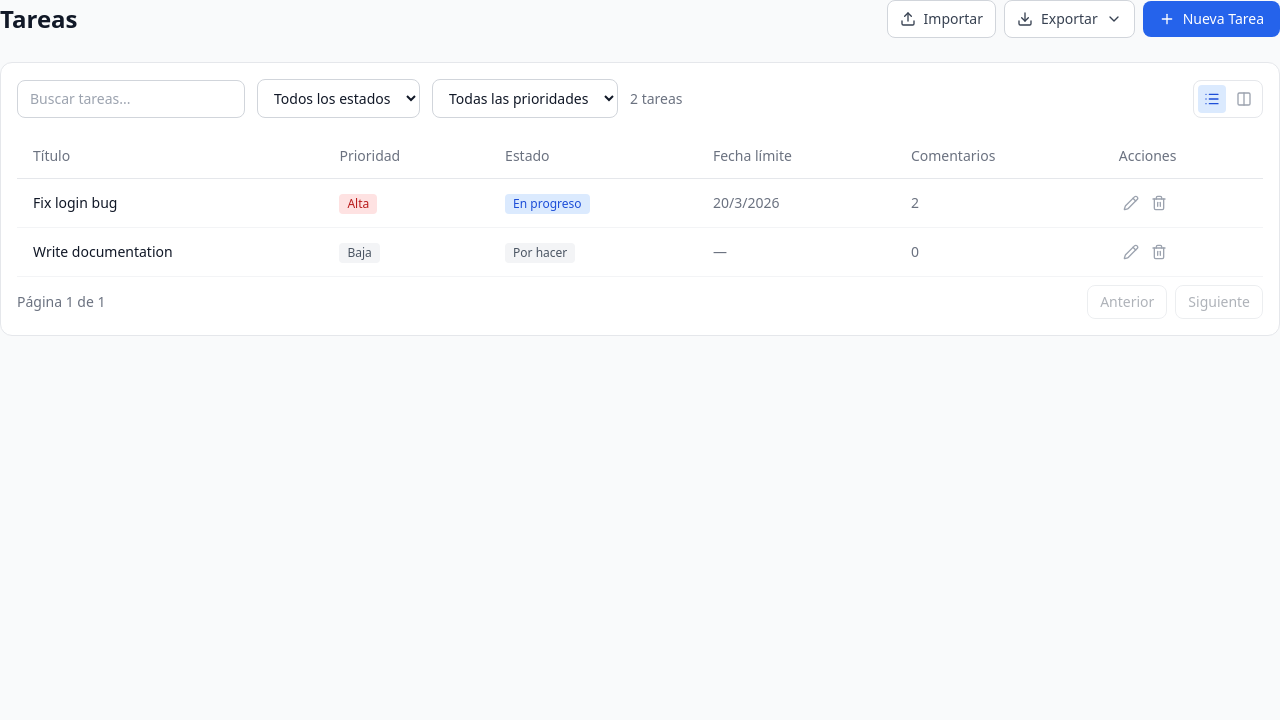
Test case: TasksPage › abre modal de edición al hacer click en editar
This screenshot has width=1280, height=720.
Step 1. Click the button named "Editar tarea" in the row of "Fix login bug" → (1131, 203), box [1119, 191, 1143, 215]
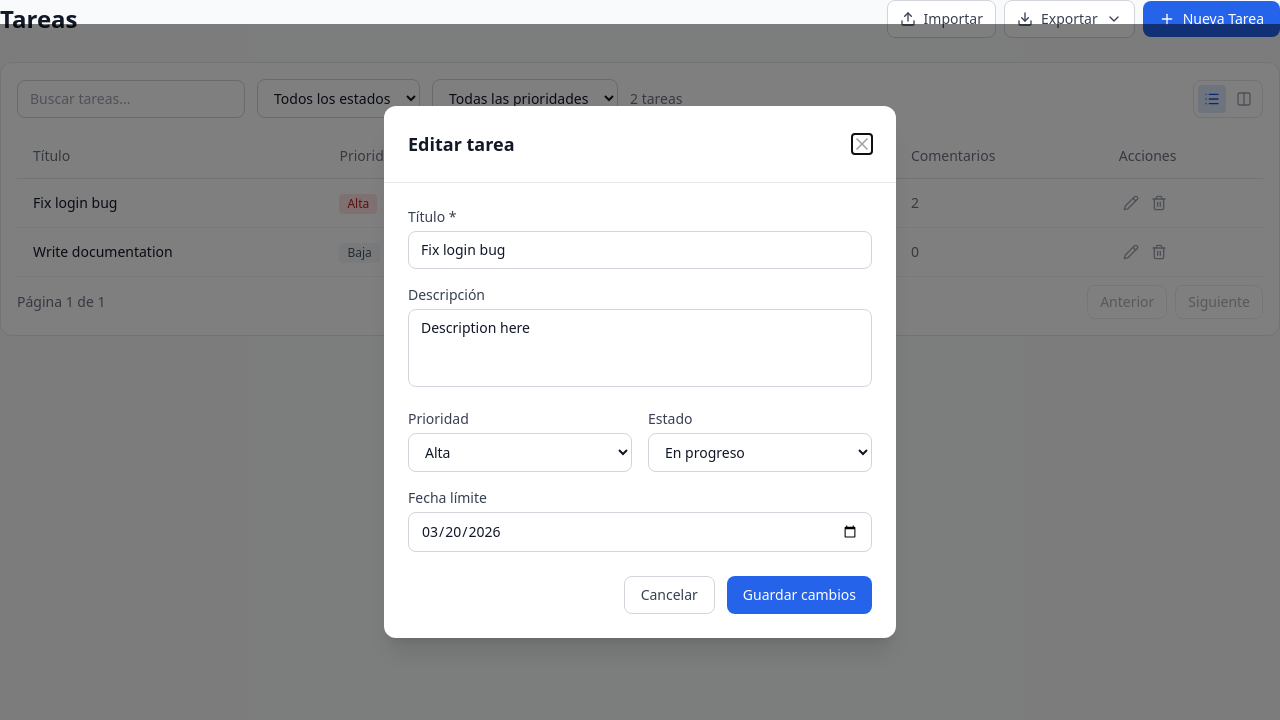
Expected: the dialog is shown, [384, 106, 896, 638]
Expected: the heading "Editar tarea" is shown, [408, 130, 514, 158]
